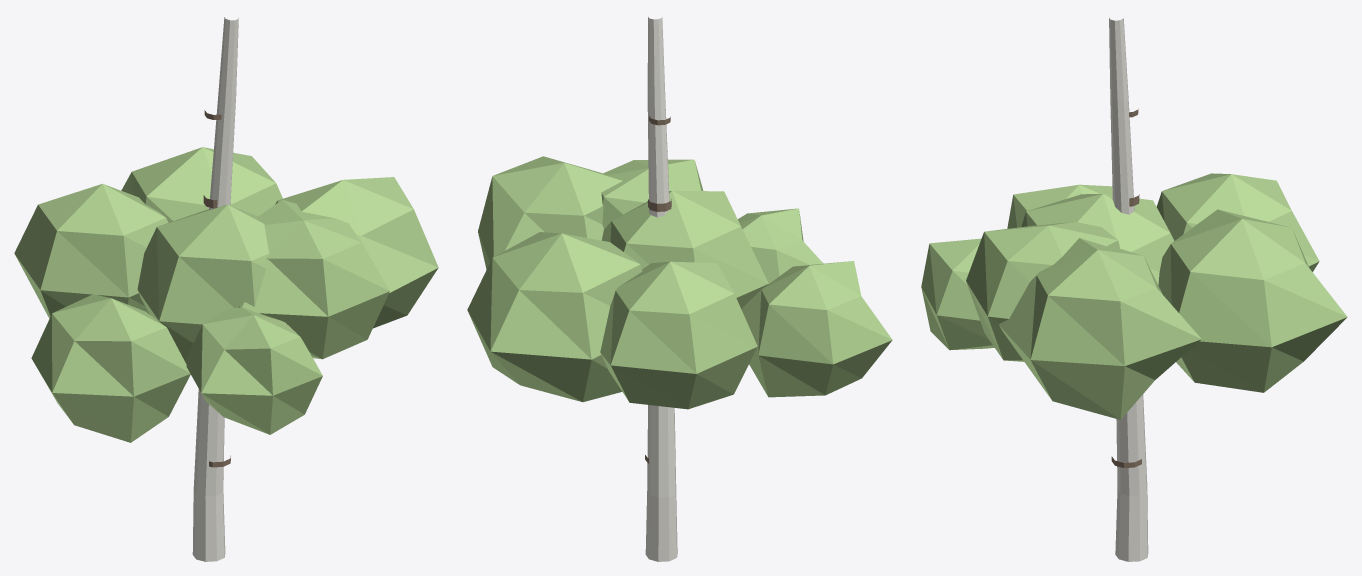
The model's file is nature_birch_mature.glb.
The picture shows the model from 3 angles, left to right: view 1: azimuth 30°, elevation 25°; view 2: azimuth 150°, elevation 25°; view 3: azimuth 270°, elevation 25°; orthographic projection. The views are drawn at different scales.
Visible parts, largest first — view 1: world; view 2: world; view 3: world.
Part boxes in pixels (<box>): world: <box>14,17,438,561</box>; world: <box>467,17,892,561</box>; world: <box>921,18,1347,561</box>.
Size of the model in its own units: 1.5 by 2 by 1.42.
